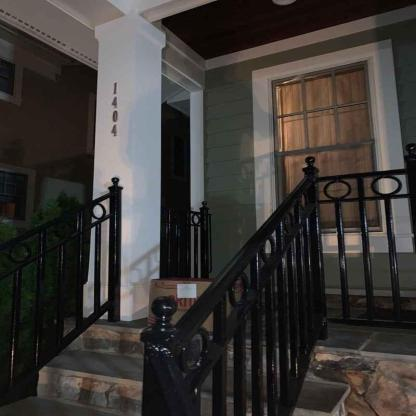label: (177, 281, 198, 299)
package: (151, 278, 250, 332)
